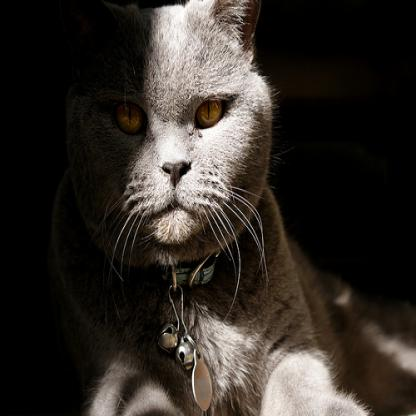cat: (56, 0, 415, 415)
